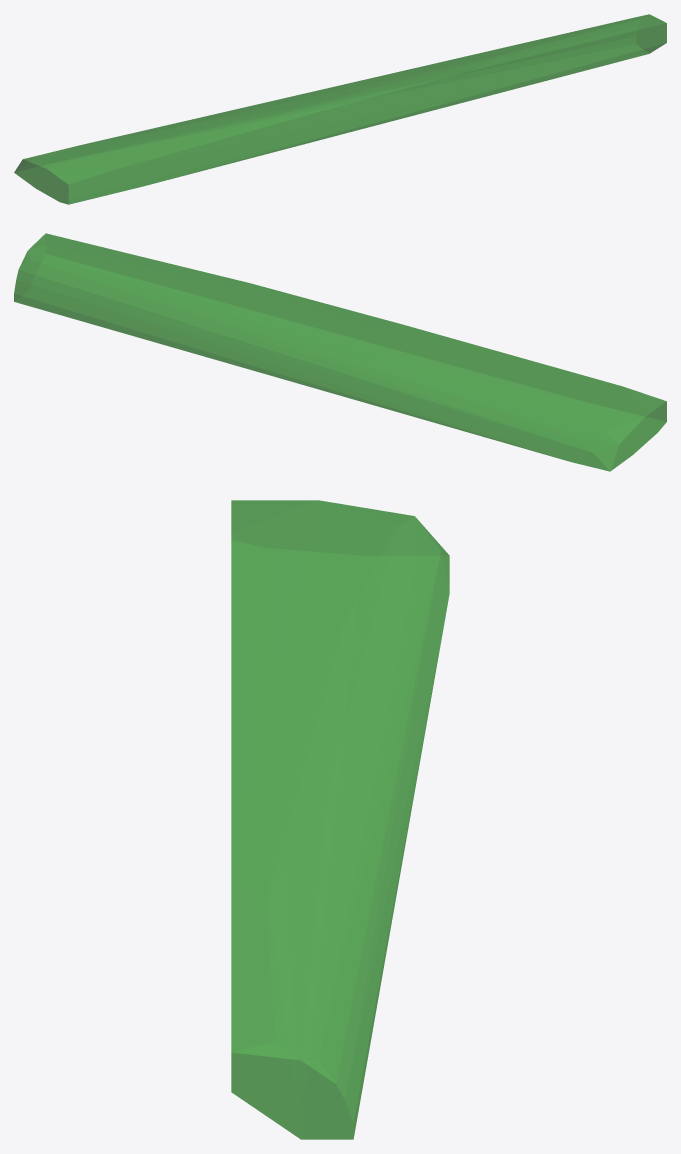
The picture shows the model from 3 angles, top to bottom: view 1: azimuth 30°, elevation 25°; view 2: azimuth 150°, elevation 25°; view 3: azimuth 270°, elevation 25°; orthographic projection. The views are drawn at different scales.
Visible parts, largest first — view 1: Shape_IndexedFaceSet.015_Shape_IndexedFaceSet.6197; view 2: Shape_IndexedFaceSet.015_Shape_IndexedFaceSet.6197; view 3: Shape_IndexedFaceSet.015_Shape_IndexedFaceSet.6197.
Part boxes in pixels (box(x1,y1,x2,y2)): Shape_IndexedFaceSet.015_Shape_IndexedFaceSet.6197: box(14, 14, 666, 204); Shape_IndexedFaceSet.015_Shape_IndexedFaceSet.6197: box(14, 233, 666, 471); Shape_IndexedFaceSet.015_Shape_IndexedFaceSet.6197: box(231, 500, 449, 1139).
Size of the model in its own units: 0.3703 by 0.0258 by 0.0586.
